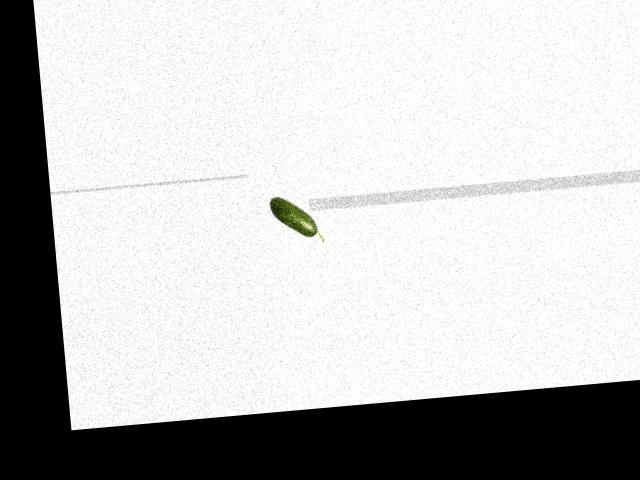cucumber: (270, 192, 325, 245)
